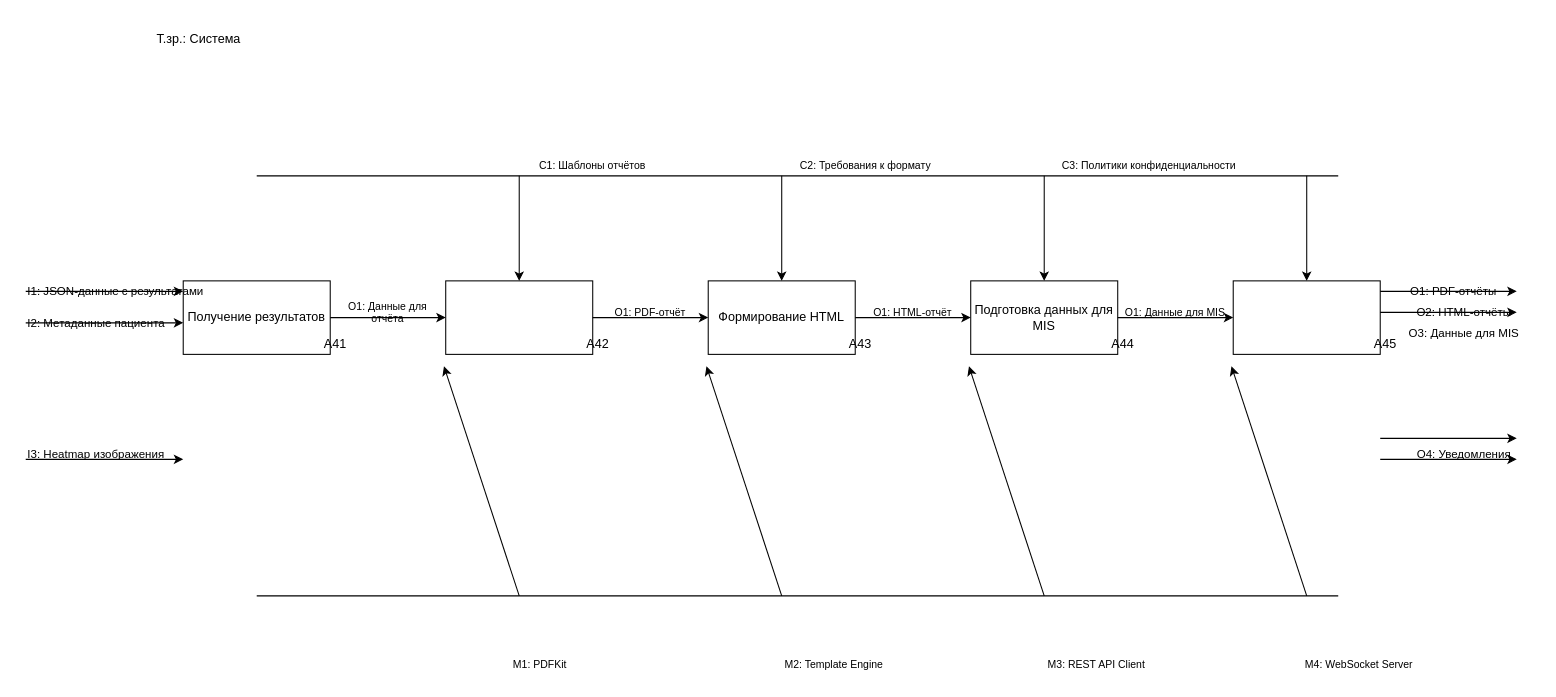
This 1556x697 diagram has some shape labels left out. The shapes that lost their labels are listed below. From the top down, each one's centre as x and y in pixels, then its label:
the point at 519,317: Формирование PDF
the point at 1306,317: Отправка уведомлений
